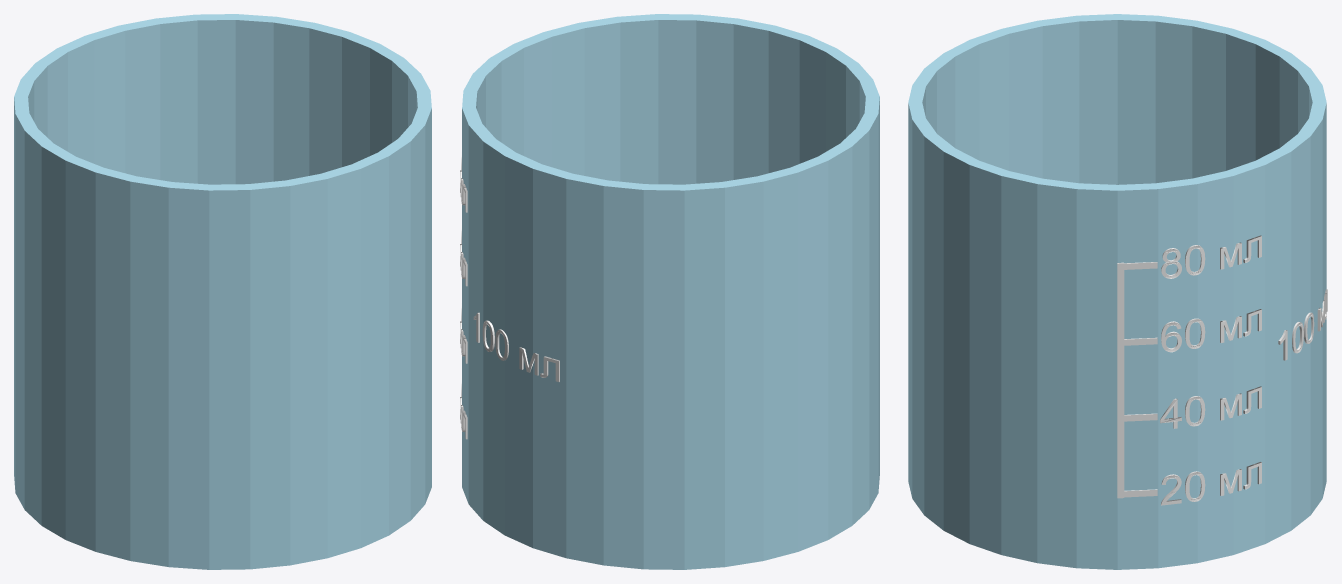
The model's file is Glass.fbx.
3 views of the same model, side by side, from view 1: azimuth 30°, elevation 25°; view 2: azimuth 150°, elevation 25°; view 3: azimuth 270°, elevation 25° (orthographic).
Parts seen in each view (by area): view 1: Cylinder; view 2: Cylinder, Cube; view 3: Cylinder, Cube.
Part boxes in pixels (x1=…): Cylinder: x1=14, y1=14, x2=431, y2=569; Cylinder: x1=462, y1=14, x2=879, y2=569; Cube: x1=460, y1=152, x2=559, y2=439; Cylinder: x1=908, y1=14, x2=1326, y2=569; Cube: x1=1117, y1=235, x2=1327, y2=505.
Bounding box in the file's own units: 201 × 200 × 200.
